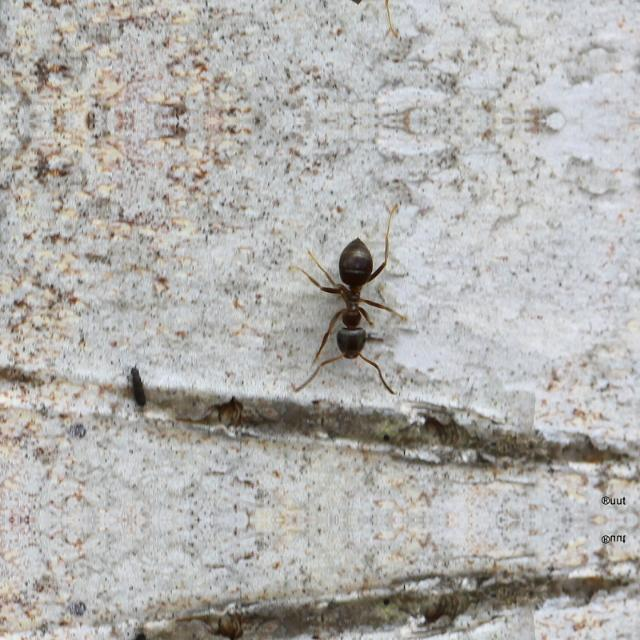Lasius: (308, 223, 412, 373)
